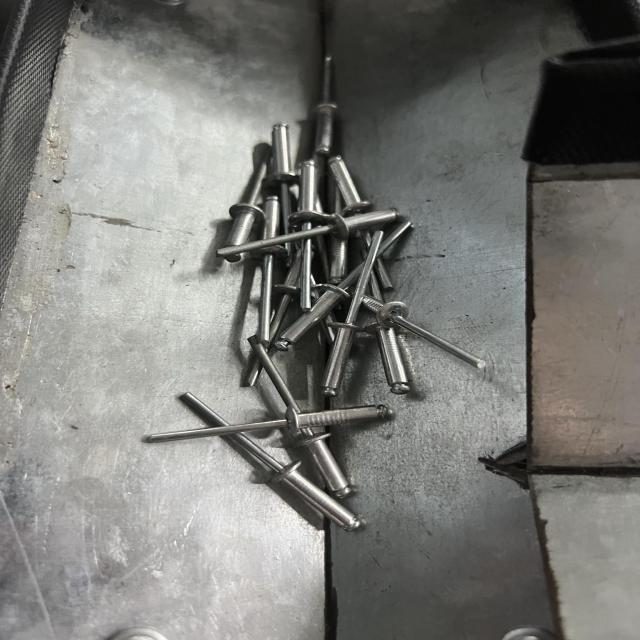rivet: (150, 405, 396, 443)
